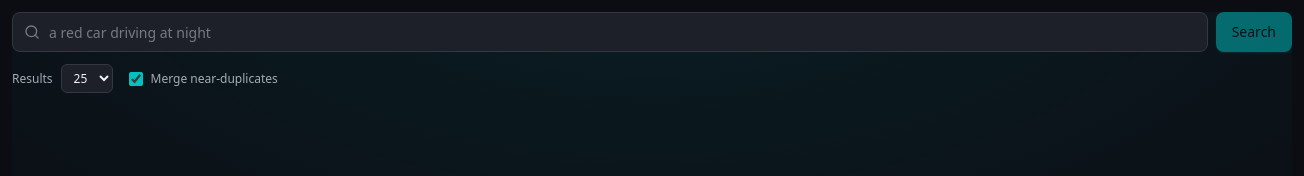
states the user can get stuck in › surfaces a dead server, which rejects rather than returning a response
Type "laptop" into the search field at coordinates (610, 32), box [12,12,1208,52]
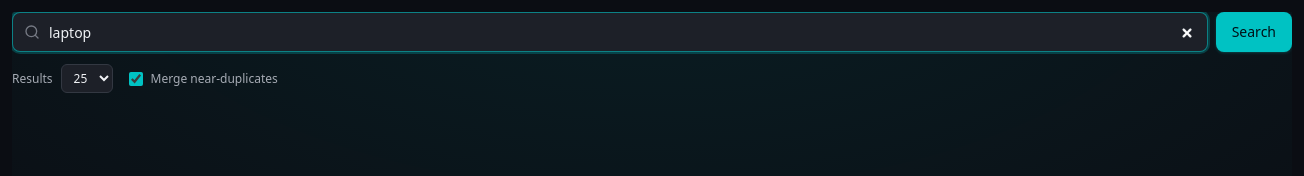
Click the button "Search" at coordinates (1254, 32), box [1216,12,1292,52]
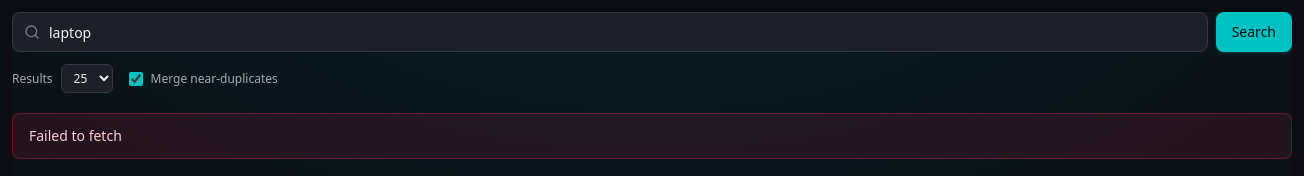
Expected: the message reads "Failed to fetch", [29,126,122,145]
